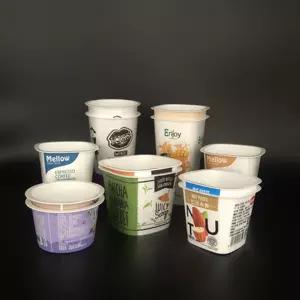plastic: (174, 166, 264, 254), (99, 153, 181, 238), (24, 182, 105, 254), (86, 95, 139, 159), (149, 104, 207, 160), (34, 136, 98, 180), (198, 137, 267, 173)
